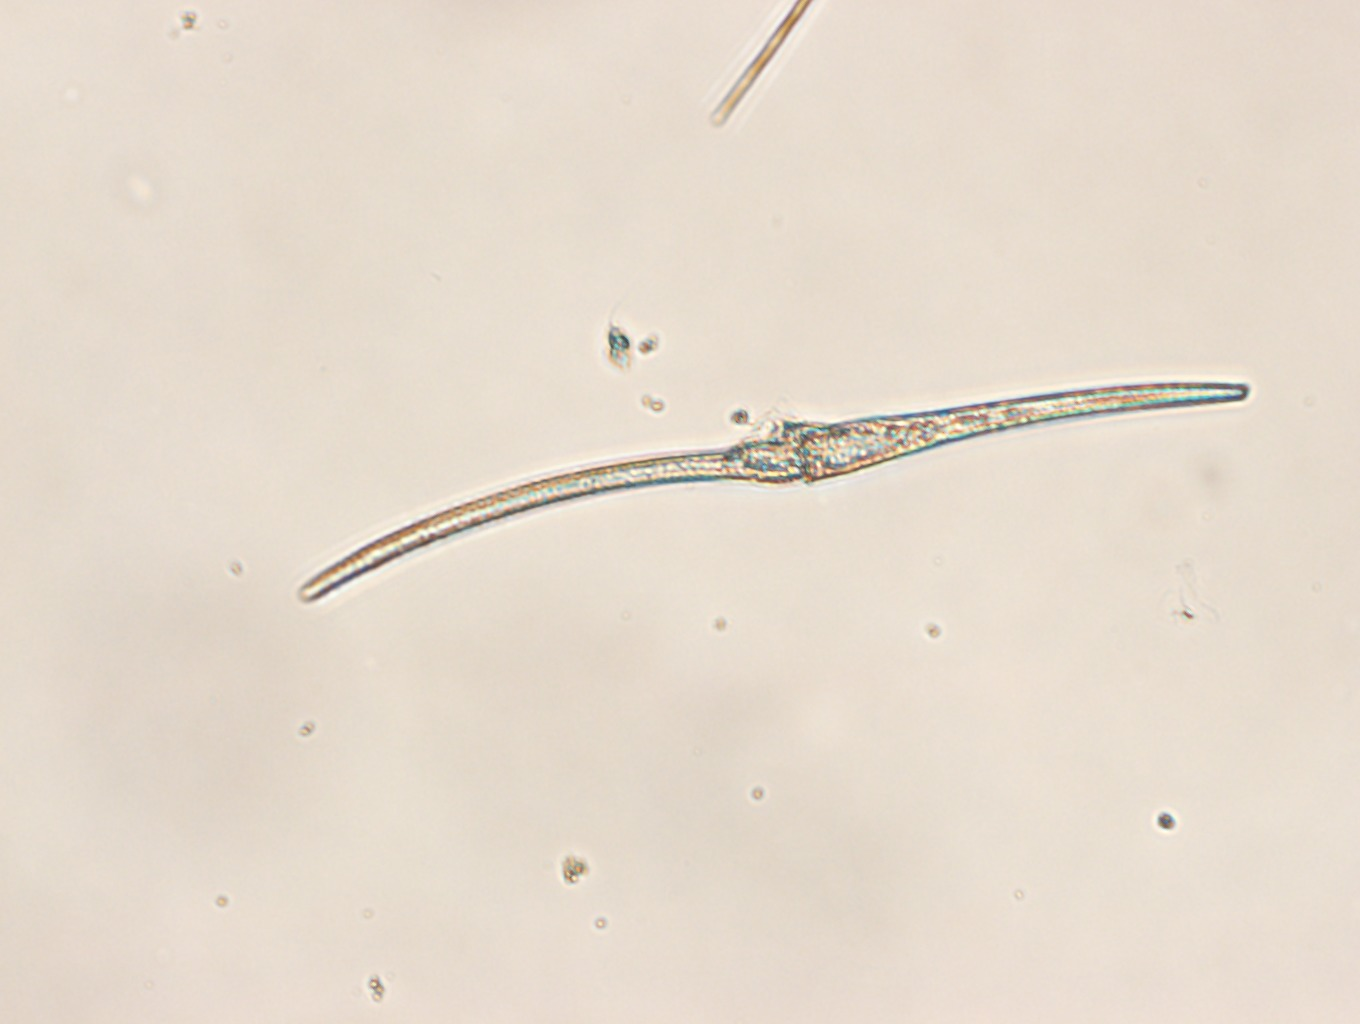ceratium fusus: (299, 381, 1252, 599)
